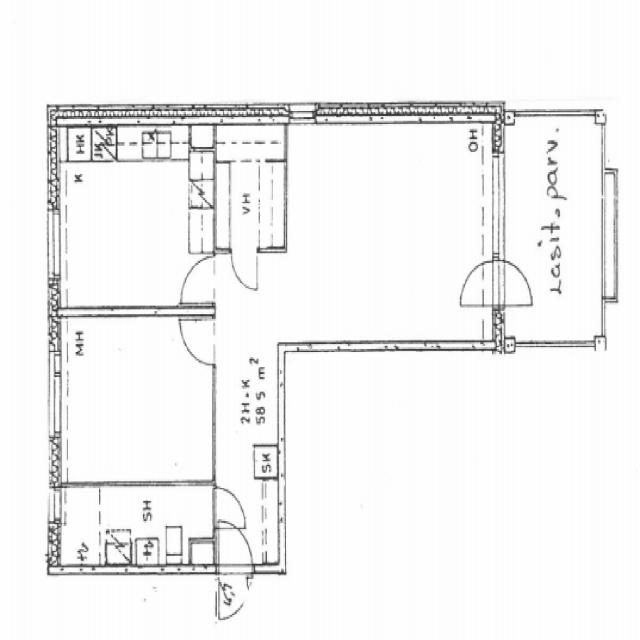door: (282, 118, 488, 345), (214, 518, 255, 614), (176, 312, 218, 366), (176, 254, 218, 305), (456, 259, 494, 310), (500, 257, 536, 310), (211, 482, 248, 530), (229, 248, 261, 293)
window: (597, 171, 623, 301), (44, 347, 70, 446), (489, 147, 509, 258), (43, 201, 67, 287), (45, 482, 64, 528), (286, 100, 319, 126)
zone: (53, 133, 213, 312), (54, 311, 217, 485), (500, 110, 609, 346), (53, 482, 216, 569), (214, 133, 286, 256)
